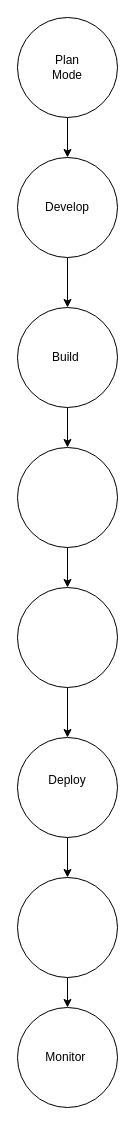
Image size: 135x1125. Some labels were removed from this diagram. The shapes that lost their labels are listed below. From the top down, each one's centre as x and y in pixels, then its label:
(x=67, y=497): Test Mode"
(x=67, y=637): Release
(x=67, y=927): Operate
